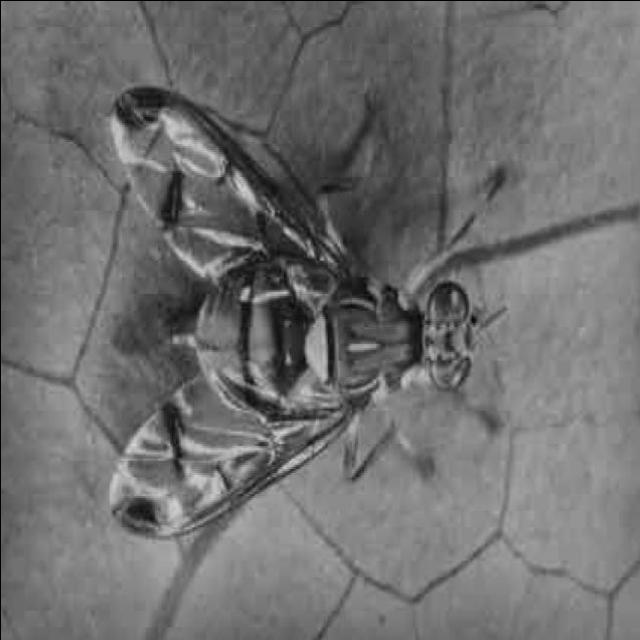Fruit fly: (96, 77, 517, 547)
